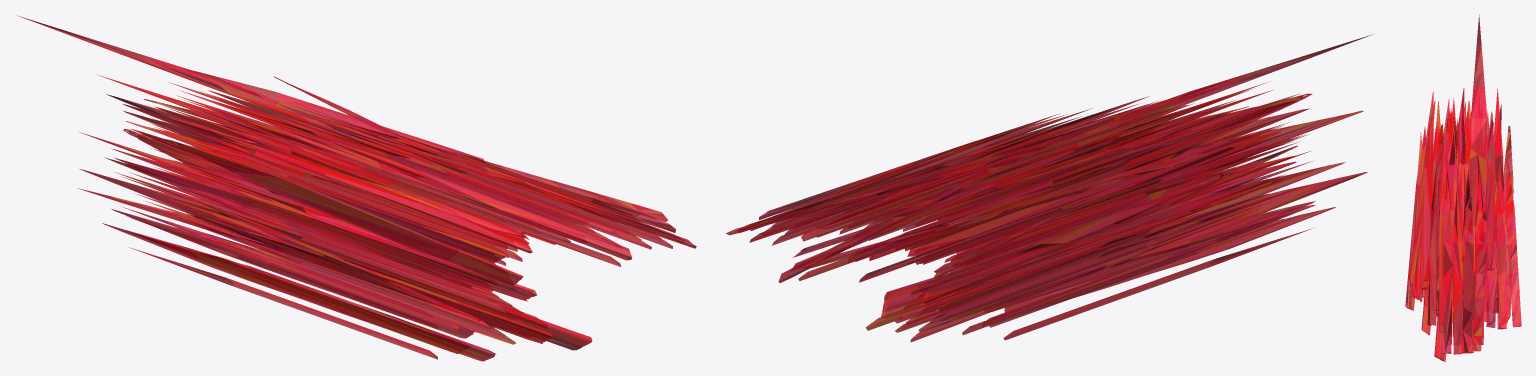
Rendered from DragonSpawn_Crystal2.glb.
3 views of the same model, side by side, from view 1: azimuth 30°, elevation 25°; view 2: azimuth 150°, elevation 25°; view 3: azimuth 270°, elevation 25° (orthographic). The views are drawn at different scales.
Parts seen in each view (by area): view 1: Crystal2; view 2: Crystal2; view 3: Crystal2.
Part boxes in pixels (<box>): Crystal2: <box>17,15,696,361</box>; Crystal2: <box>725,34,1372,342</box>; Crystal2: <box>1405,14,1521,361</box>.
Bounding box in the file's own units: 19.95 × 12.86 × 6.19.
1 material, 1 textured.
